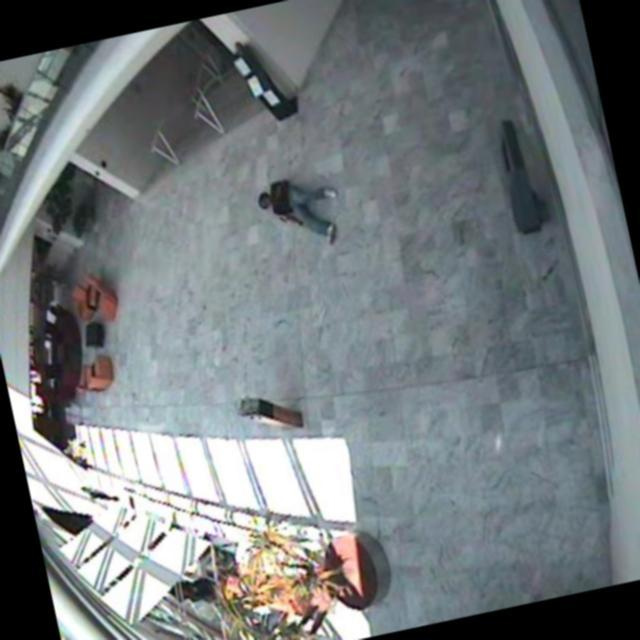person: (246, 160, 364, 270)
